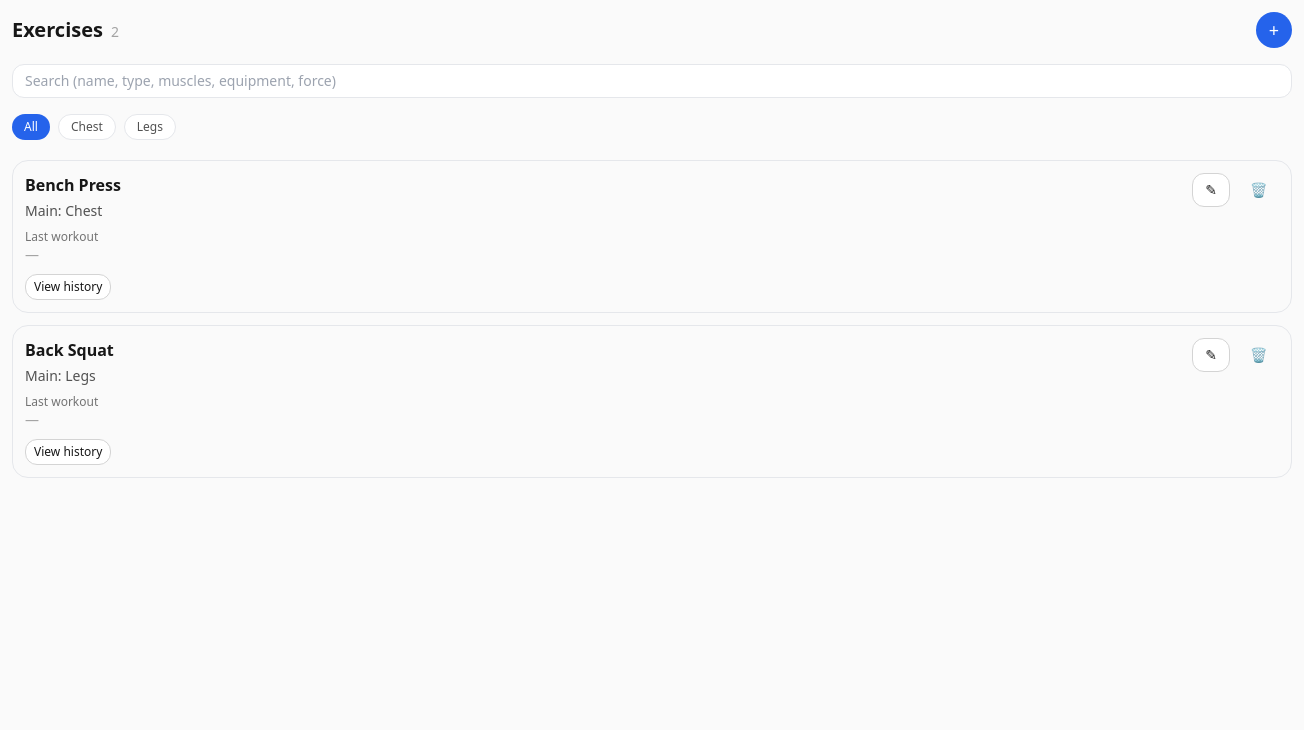
ExerciseManager › toggles the create form via the New button
The width and height of the screenshot is (1304, 730).
Click the button named "New exercise". click: coordinates (1274, 30)
box: [1256, 12, 1292, 48]
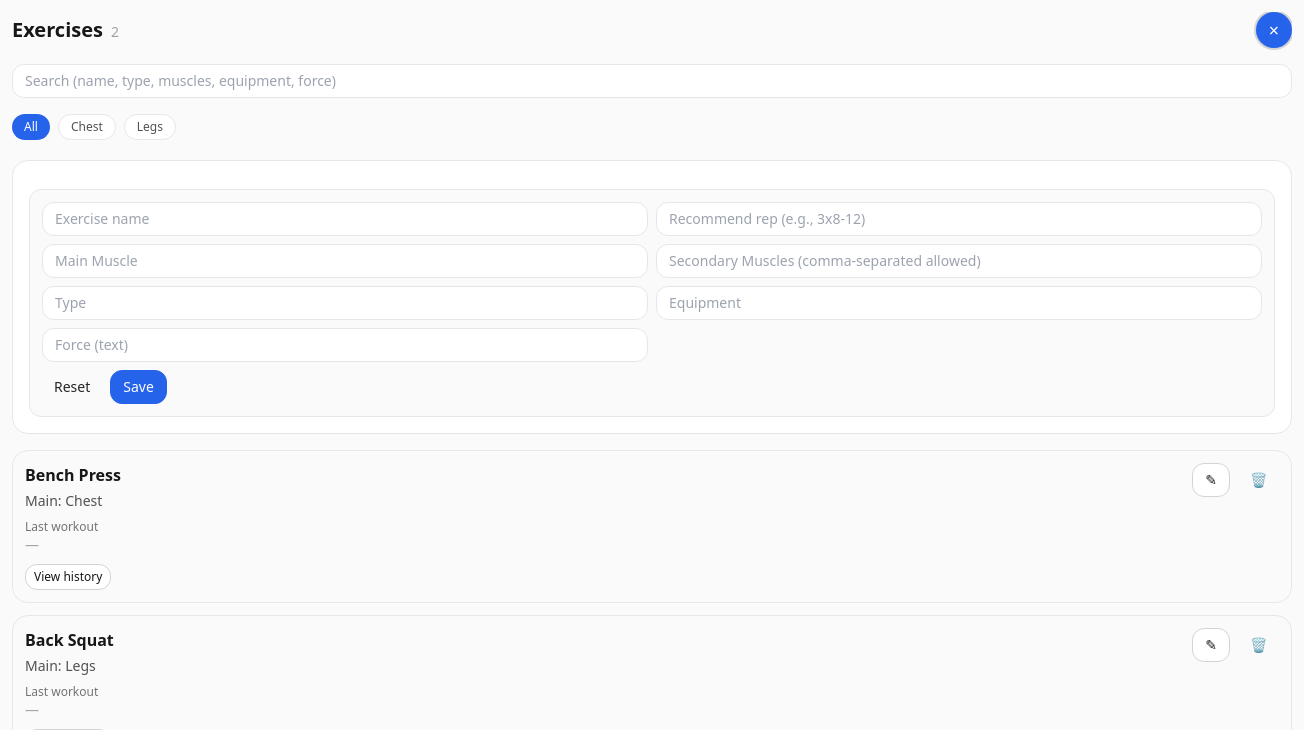
Now the button named "New exercise" reads "×", box [1256, 12, 1292, 48]
